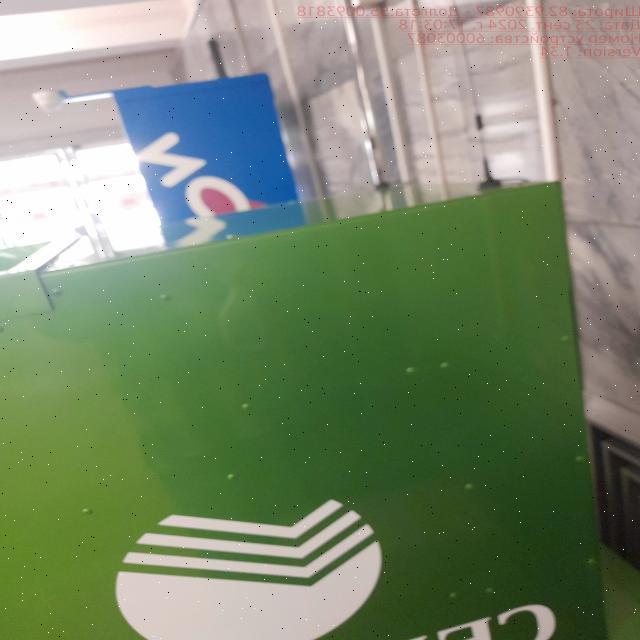bank: (0, 171, 628, 640)
